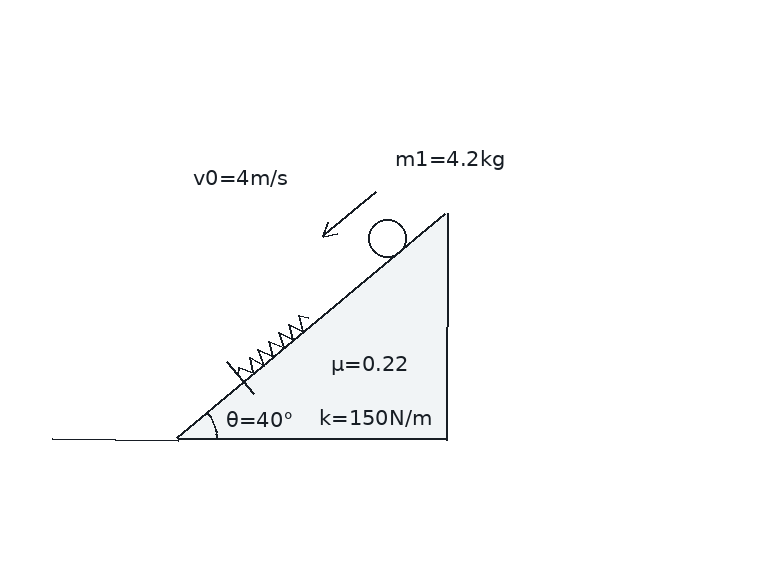ball: (366, 217, 408, 259)
ramp: (175, 211, 449, 441)
spring: (237, 314, 311, 378)
